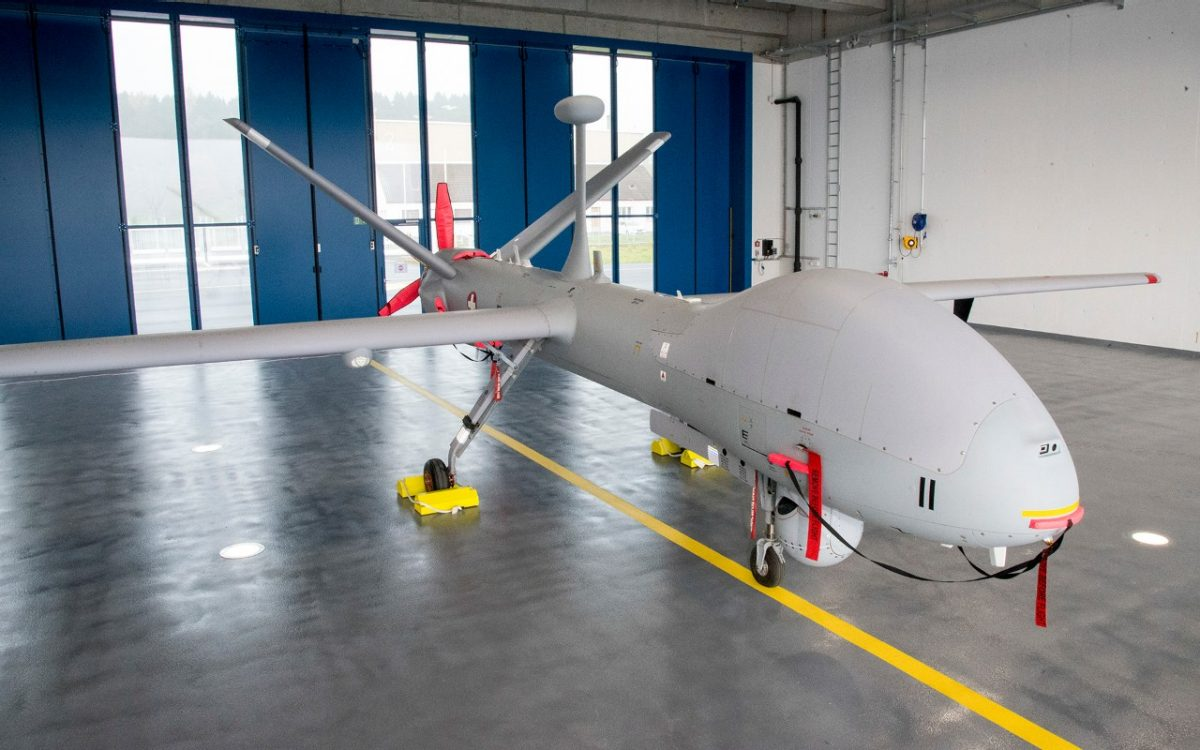Aeronef_militaire: (1, 83, 1170, 663)
